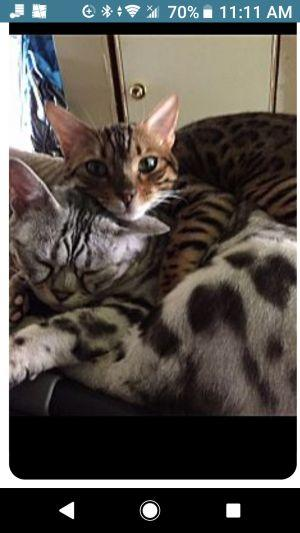bengal: (36, 86, 193, 227)
